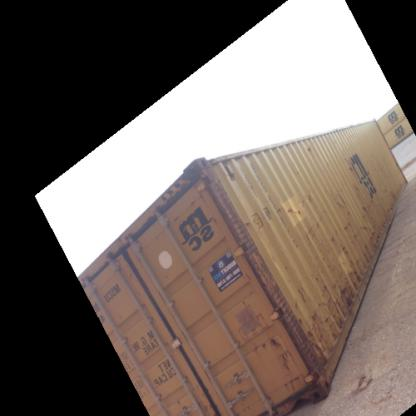Damage: (296, 269, 364, 371), (260, 333, 294, 370), (358, 224, 387, 254), (276, 372, 310, 396), (300, 214, 328, 240), (260, 202, 304, 218), (340, 209, 356, 235), (299, 140, 318, 156), (303, 185, 318, 205), (360, 201, 370, 219), (339, 243, 351, 258), (328, 230, 336, 246)
